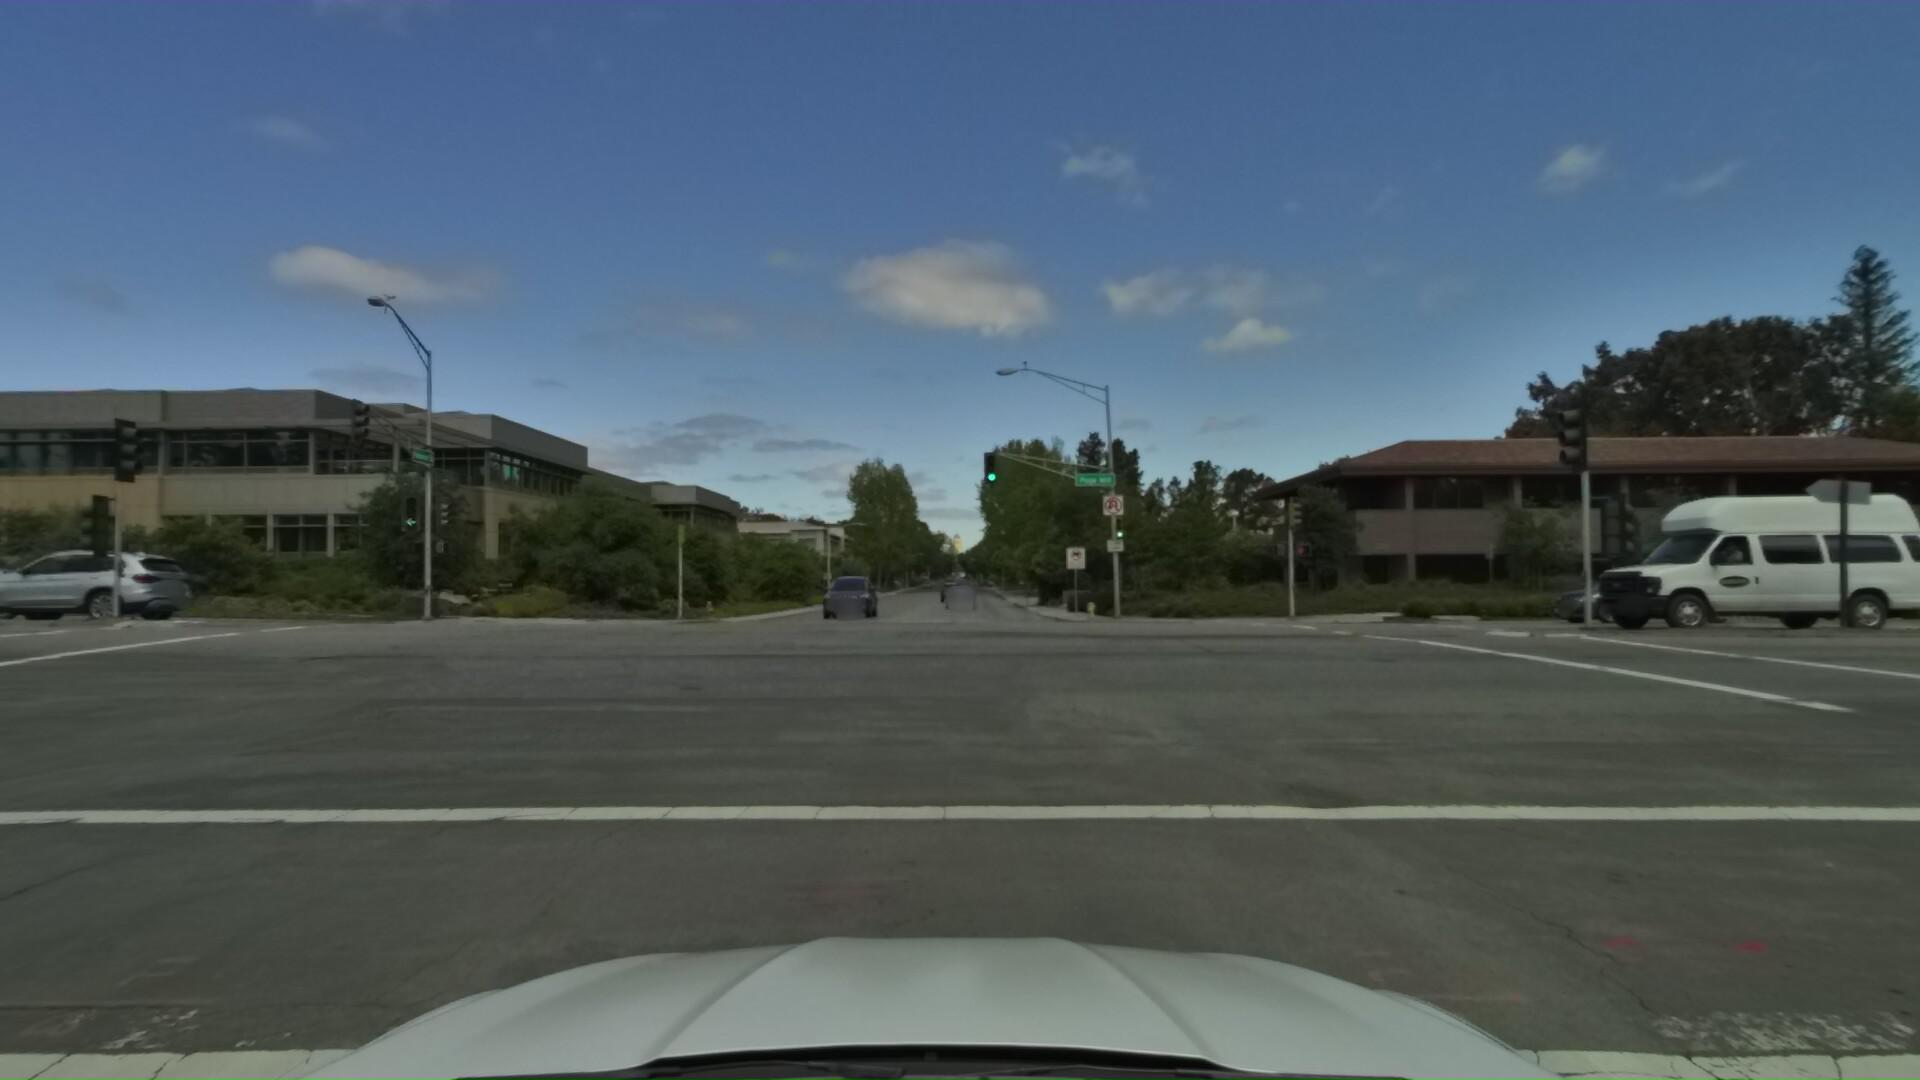car: (1564, 484, 1920, 624), (0, 546, 185, 624), (1516, 555, 1742, 618), (818, 560, 880, 611), (940, 574, 977, 605), (0, 570, 20, 622), (936, 574, 963, 596)
